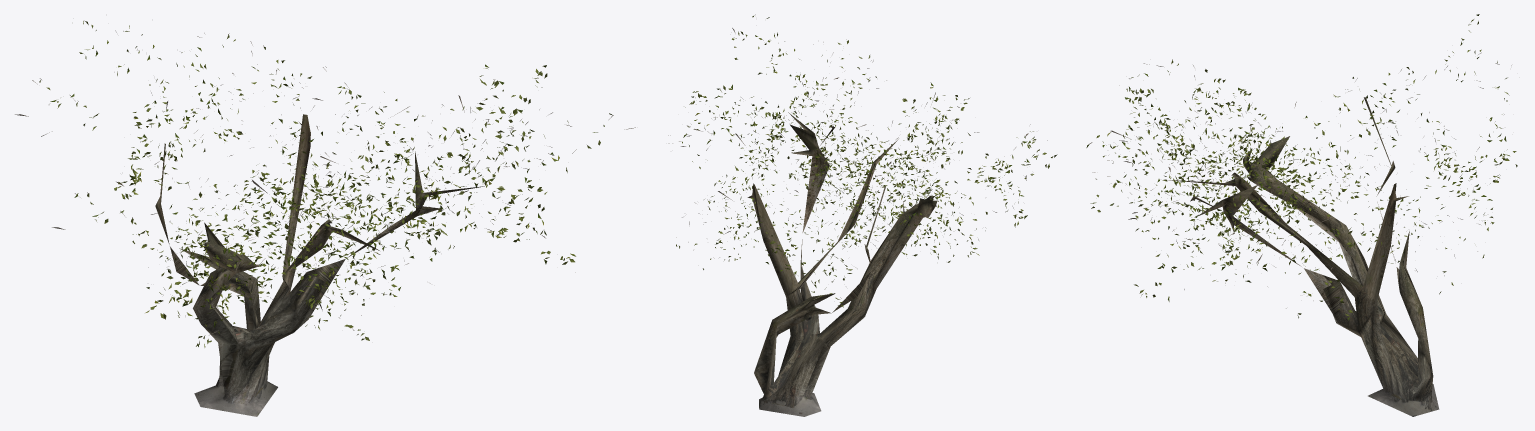
Rendered from island_tree.glb.
The picture shows the model from 3 angles, left to right: view 1: azimuth 30°, elevation 25°; view 2: azimuth 150°, elevation 25°; view 3: azimuth 270°, elevation 25°; orthographic projection. The views are drawn at different scales.
Visible parts, largest first — view 1: island_tree_02_LOD0; view 2: island_tree_02_LOD0; view 3: island_tree_02_LOD0.
Boxes of the visible parts, left/top/right/bottom form: island_tree_02_LOD0: left=15, top=20, right=635, bottom=416; island_tree_02_LOD0: left=668, top=14, right=1057, bottom=416; island_tree_02_LOD0: left=1086, top=14, right=1517, bottom=416.
Bounding box in the file's own units: 4.21 × 3.36 × 3.96.
3 materials, 3 textured.
